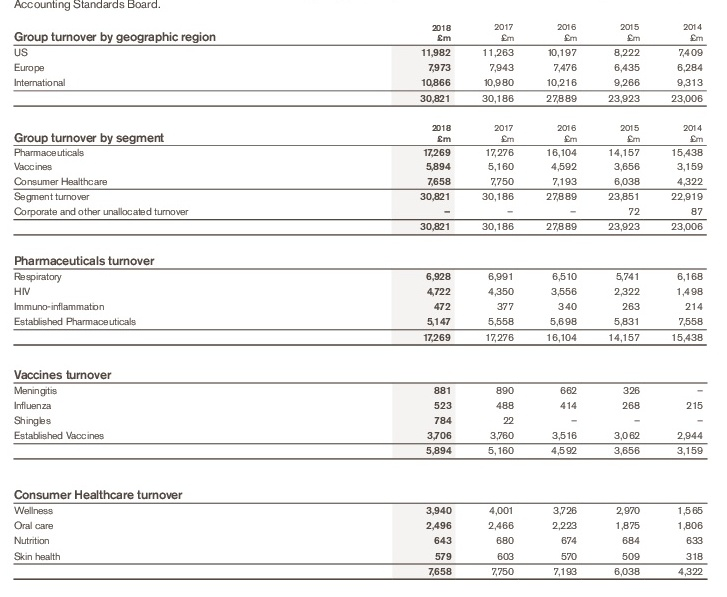table: (0, 0, 727, 597)
